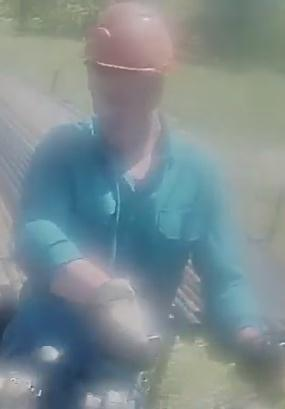gloves: (78, 276, 162, 369), (245, 324, 285, 389)
helmet: (80, 0, 181, 82)
vest: (17, 121, 236, 375)
